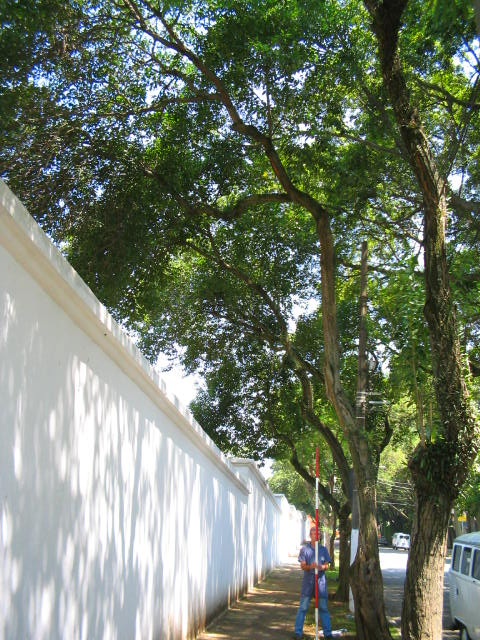stem: (382, 6, 477, 640), (321, 192, 402, 638)
stick: (308, 447, 324, 640)
tree: (1, 1, 410, 638)
